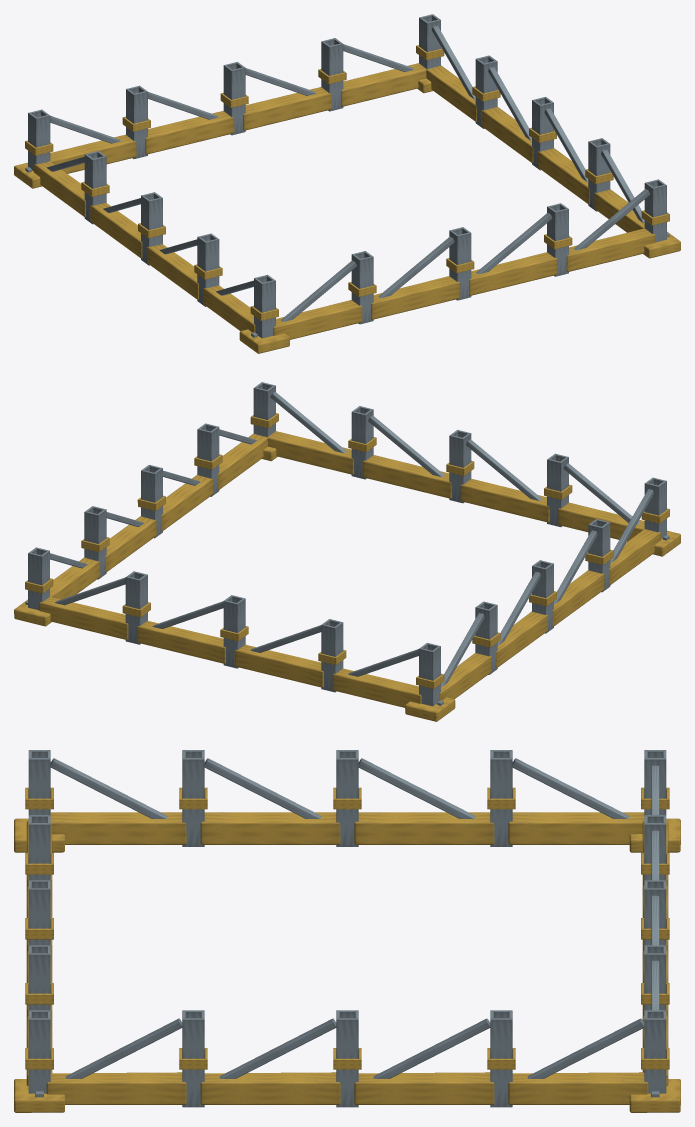
The picture shows the model from 3 angles, top to bottom: view 1: azimuth 30°, elevation 25°; view 2: azimuth 150°, elevation 25°; view 3: azimuth 270°, elevation 25°; orthographic projection. The views are drawn at different scales.
Visible parts, largest first — view 1: Tier 0 bay 2-0-2 service deck, Tier 0 bay 2-0-1 service deck, Tier 0 bay 0-0-1 service deck, Tier 0 bay 0-0-2 service deck, Tier 0 bay 0-0-3 service deck, Tier 0 bay 2-0-0 service deck, Tier 0 bay 0-0-0 service deck, Tier 0 bay 2-0-3 service deck, Tier 0 bay 3-0-1 service deck, Tier 0 bay 3-0-2 service deck, Tier 0 bay 1-0-2 service deck, Tier 0 bay 1-0-1 service deck (+34 smaller); view 2: Tier 0 bay 0-0-2 service deck, Tier 0 bay 2-0-2 service deck, Tier 0 bay 0-0-1 service deck, Tier 0 bay 2-0-1 service deck, Tier 0 bay 2-0-0 service deck, Tier 0 bay 2-0-3 service deck, Tier 0 bay 0-0-3 service deck, Tier 0 bay 0-0-0 service deck, Tier 0 bay 1-0-1 service deck, Tier 0 bay 1-0-2 service deck, Tier 0 bay 3-0-2 service deck, Tier 0 bay 3-0-1 service deck (+34 smaller); view 3: Tier 0 bay 3-0-2 service deck, Tier 0 bay 3-0-1 service deck, Tier 0 bay 1-0-1 service deck, Tier 0 bay 1-0-2 service deck, Tier 0 bay 1-0-3 service deck, Tier 0 bay 1-0-0 service deck, Tier 0 bay 3-0-3 service deck, Tier 0 bay 3-0-0 service deck, Tier 0 side 1 post 2, Tier 0 side 1 post 3, Tier 0 side 1 post 1, Tier 0 side 3 post 1 (+24 smaller).
Boxes of the visible parts, left/top/right/bottom form: Tier 0 bay 2-0-2 service deck: left=145, top=111, right=234, bottom=154; Tier 0 bay 2-0-1 service deck: left=243, top=87, right=331, bottom=130; Tier 0 bay 0-0-1 service deck: left=371, top=276, right=460, bottom=319; Tier 0 bay 0-0-2 service deck: left=469, top=252, right=557, bottom=295; Tier 0 bay 0-0-3 service deck: left=566, top=228, right=655, bottom=271; Tier 0 bay 2-0-0 service deck: left=341, top=63, right=426, bottom=106; Tier 0 bay 0-0-0 service deck: left=273, top=300, right=362, bottom=339; Tier 0 bay 2-0-3 service deck: left=48, top=134, right=136, bottom=173; Tier 0 bay 3-0-1 service deck: left=90, top=203, right=142, bottom=258; Tier 0 bay 3-0-2 service deck: left=147, top=244, right=198, bottom=299; Tier 0 bay 1-0-2 service deck: left=481, top=107, right=533, bottom=163; Tier 0 bay 1-0-1 service deck: left=538, top=148, right=589, bottom=204; Tier 0 bay 0-0-2 service deck: left=362, top=455, right=451, bottom=498; Tier 0 bay 2-0-2 service deck: left=234, top=644, right=323, bottom=687; Tier 0 bay 0-0-1 service deck: left=460, top=479, right=549, bottom=522; Tier 0 bay 2-0-1 service deck: left=137, top=621, right=225, bottom=663; Tier 0 bay 2-0-0 service deck: left=39, top=597, right=128, bottom=639; Tier 0 bay 2-0-3 service deck: left=332, top=668, right=421, bottom=707; Tier 0 bay 0-0-3 service deck: left=266, top=431, right=353, bottom=474; Tier 0 bay 0-0-0 service deck: left=558, top=502, right=644, bottom=541; Tier 0 bay 1-0-1 service deck: left=161, top=475, right=213, bottom=531; Tier 0 bay 1-0-2 service deck: left=105, top=516, right=156, bottom=572; Tier 0 bay 3-0-2 service deck: left=552, top=570, right=604, bottom=626; Tier 0 bay 3-0-1 service deck: left=496, top=611, right=547, bottom=667; Tier 0 bay 3-0-2 service deck: left=200, top=812, right=340, bottom=844; Tier 0 bay 3-0-1 service deck: left=354, top=812, right=494, bottom=844; Tier 0 bay 1-0-1 service deck: left=200, top=1072, right=340, bottom=1104; Tier 0 bay 1-0-2 service deck: left=354, top=1072, right=494, bottom=1104; Tier 0 bay 1-0-3 service deck: left=508, top=1072, right=648, bottom=1104; Tier 0 bay 1-0-0 service deck: left=46, top=1072, right=186, bottom=1104; Tier 0 bay 3-0-3 service deck: left=50, top=812, right=186, bottom=844; Tier 0 bay 3-0-0 service deck: left=508, top=812, right=644, bottom=844; Tier 0 side 1 post 2: left=336, top=1010, right=358, bottom=1107; Tier 0 side 1 post 3: left=490, top=1010, right=512, bottom=1107; Tier 0 side 1 post 1: left=182, top=1010, right=204, bottom=1107; Tier 0 side 3 post 1: left=490, top=750, right=512, bottom=846.
Size of the model in its own units: 1.95 by 0.2834 by 1.95.
Materials: 2 (2 with a texture image).
